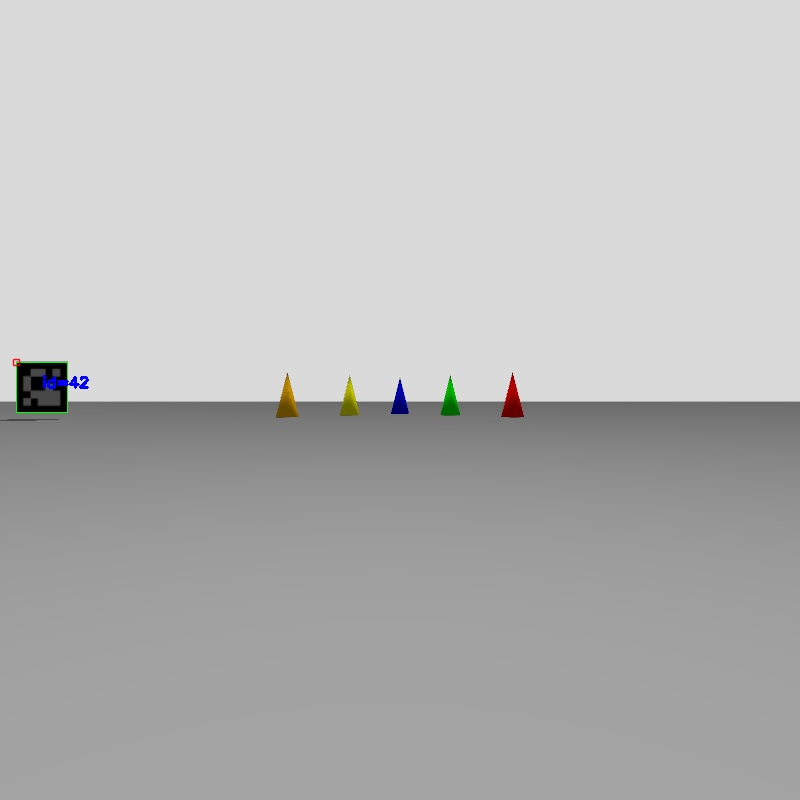Blue_cone: (391, 380, 408, 414)
Green_cone: (441, 376, 458, 415)
Orange_cone: (276, 373, 298, 417)
Red_cone: (501, 373, 522, 417)
Yellow_cone: (340, 378, 359, 415)
